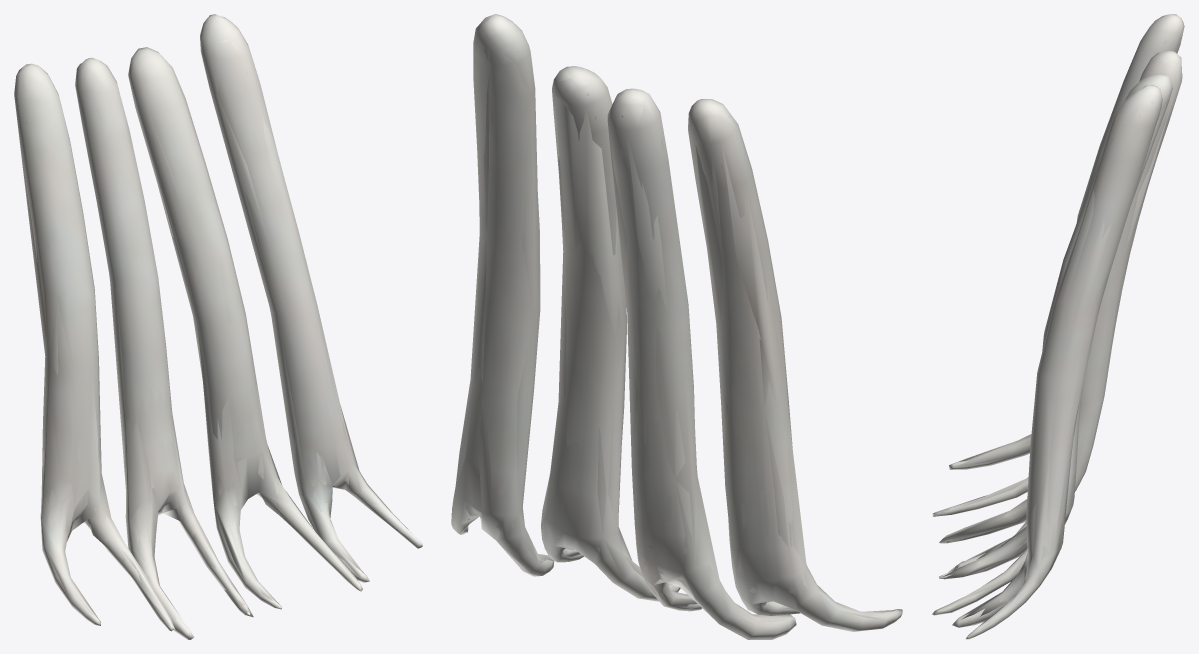
The model's file is L Interossei.fbx.
The picture shows the model from 3 angles, left to right: view 1: azimuth 30°, elevation 25°; view 2: azimuth 150°, elevation 25°; view 3: azimuth 270°, elevation 25°; orthographic projection. The views are drawn at different scales.
Parts seen in each view (by area): view 1: L Interossei, L Interossei low, L Interossei high; view 2: L Interossei, L Interossei low, L Interossei high; view 3: L Interossei, L Interossei low, L Interossei high.
Boxes of the visible parts, x1,y1,x2,y2 form: L Interossei: [14, 14, 422, 639]; L Interossei low: [20, 15, 407, 639]; L Interossei high: [22, 24, 415, 629]; L Interossei: [451, 14, 902, 639]; L Interossei low: [453, 14, 898, 633]; L Interossei high: [462, 18, 892, 636]; L Interossei: [931, 14, 1184, 639]; L Interossei low: [937, 17, 1180, 638]; L Interossei high: [935, 15, 1178, 637].
Bounding box in the file's own units: 1.54 × 2.23 × 0.9828.
Materials: 1 (1 with a texture image).
